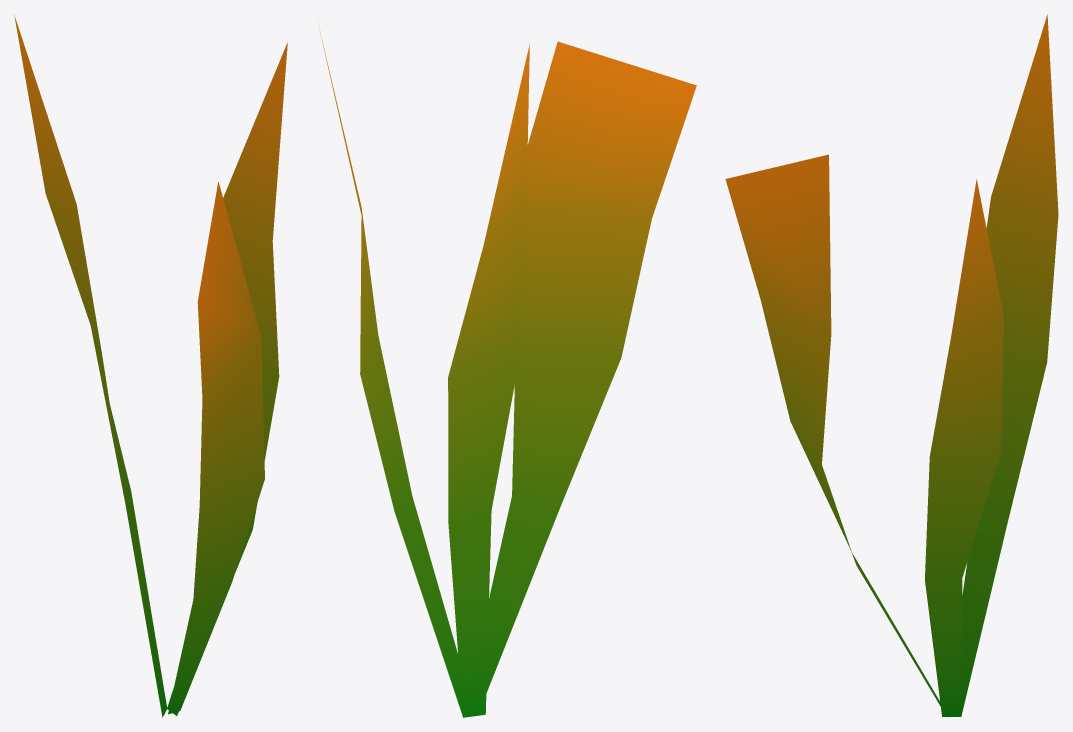
File: Common Eelgrass_LOD2_Var6_sjglk.fbx
3 views of the same model, side by side, from view 1: azimuth 30°, elevation 25°; view 2: azimuth 150°, elevation 25°; view 3: azimuth 270°, elevation 25° (orthographic). The views are drawn at different scales.
Parts seen in each view (by area): view 1: _f263_Var6_LOD2; view 2: _f263_Var6_LOD2; view 3: _f263_Var6_LOD2.
Part boxes in pixels (x1,y1,x2,y2): _f263_Var6_LOD2: (14, 15, 287, 717); _f263_Var6_LOD2: (319, 27, 696, 717); _f263_Var6_LOD2: (725, 14, 1058, 717).
Size of the model in its own units: 31.24 by 86.84 by 40.13.
